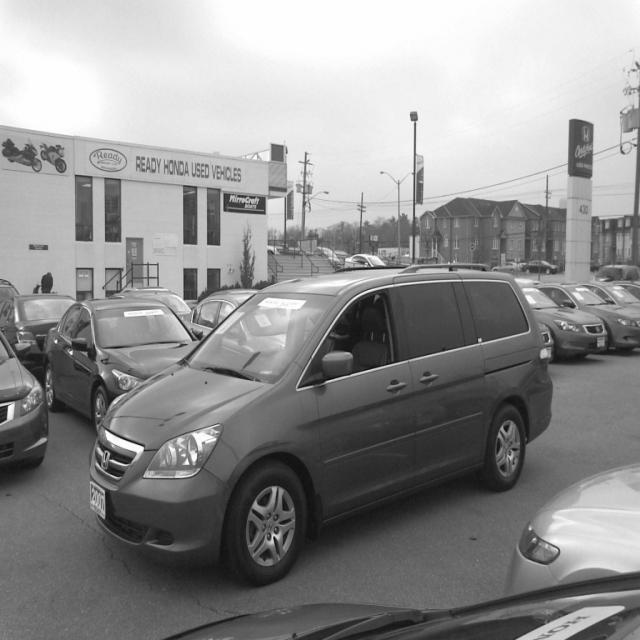car: (89, 263, 553, 585), (162, 571, 640, 639), (42, 297, 200, 435), (503, 462, 639, 598), (0, 292, 78, 381), (0, 329, 49, 469), (520, 285, 608, 362)
